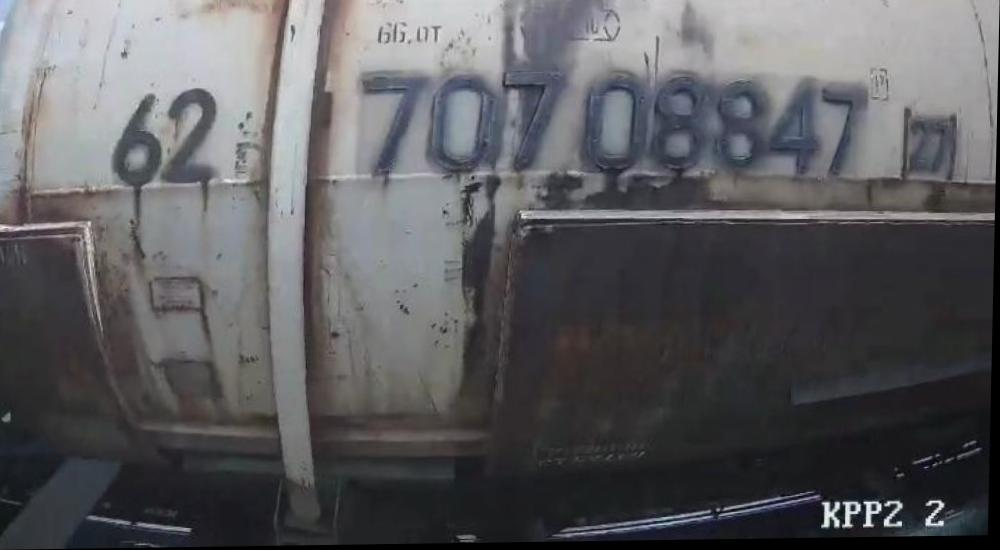Wagon-number: (357, 60, 870, 185)
